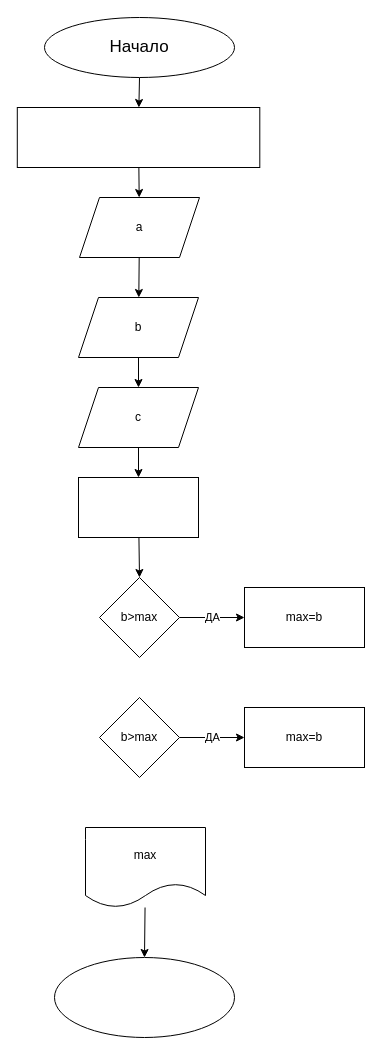
Some shapes in this 383 by 1055 pixel diagram are drawn without their labels. Here are the shapes that lost their labels. From the top down, the centre of each, then its label:
At pixel 138 137: "int a int b int c int max".
At pixel 138 507: "max=a".
At pixel 144 997: "Конец".
